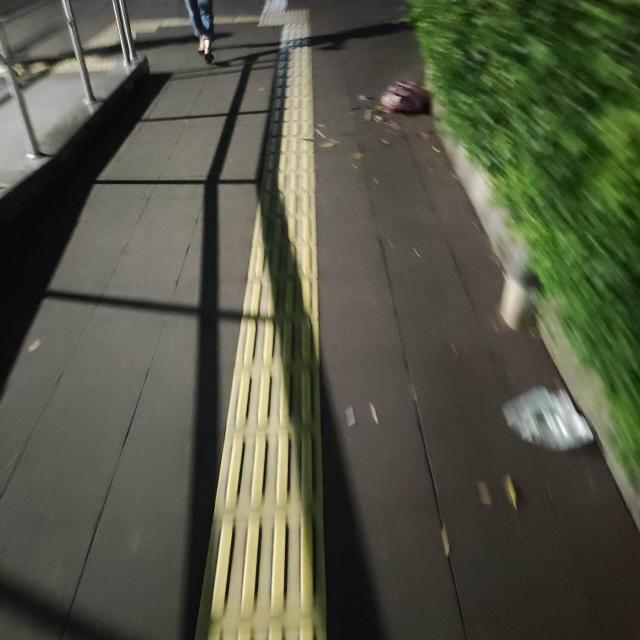lurus: (215, 72, 334, 640)
